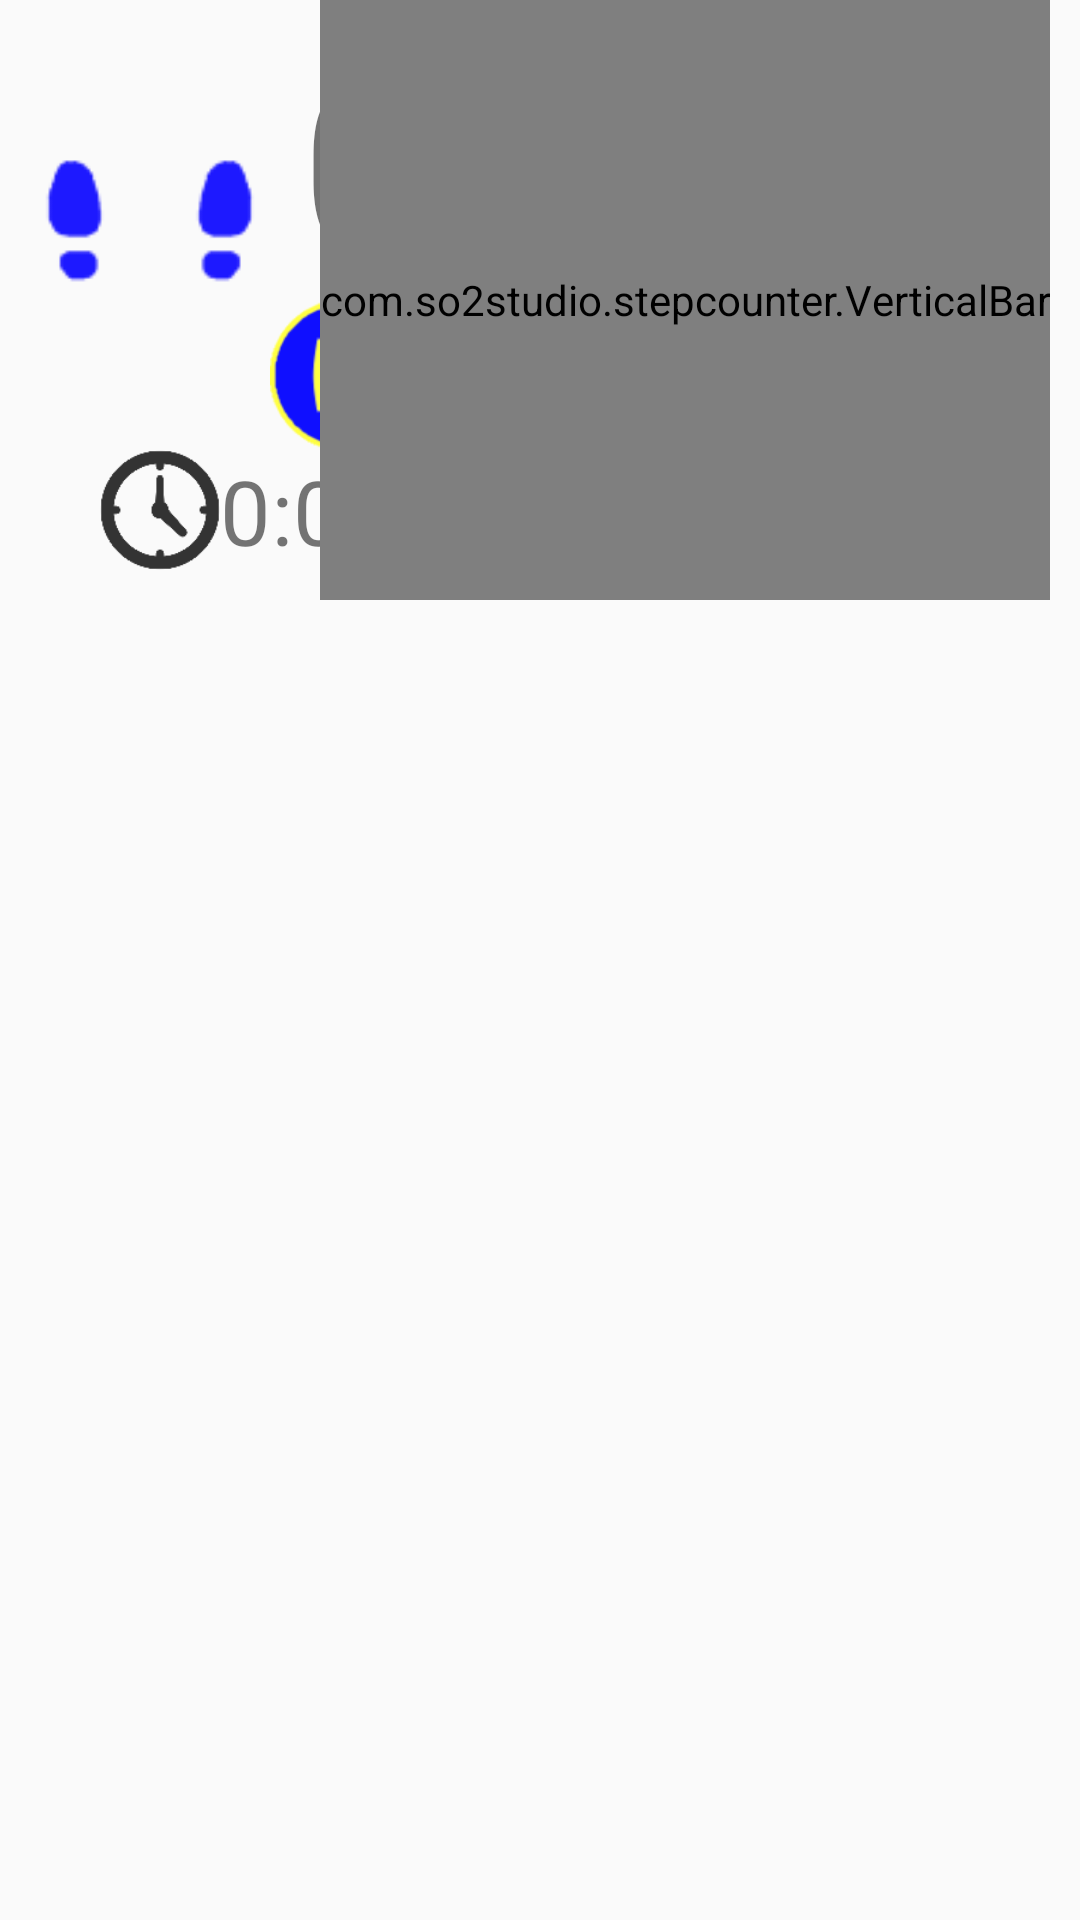

Named icons in this screenshot (1080px x 1920px) and their bounding boxes, (x1, y1, x2, y2):
clock: (101, 451, 219, 569)
Scarpa Destra: (198, 160, 252, 281)
Scarpa Sinistra: (47, 160, 102, 281)
